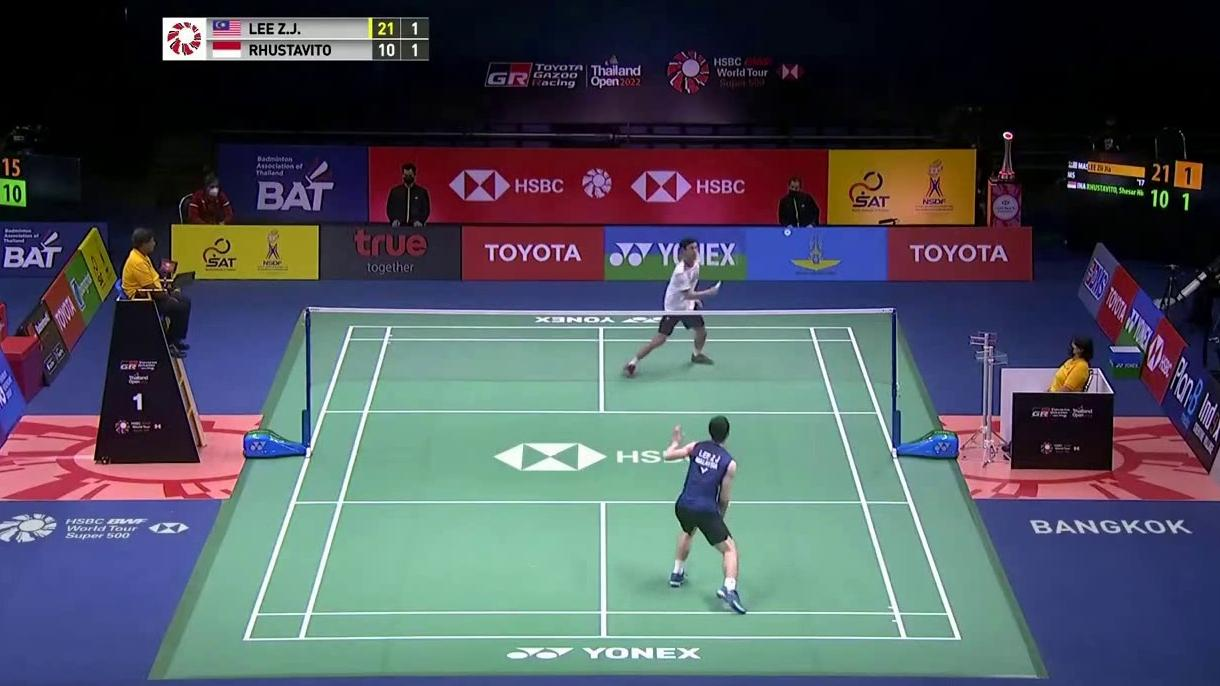racket: (711, 242, 743, 290)
shuttle: (784, 227, 792, 236)
